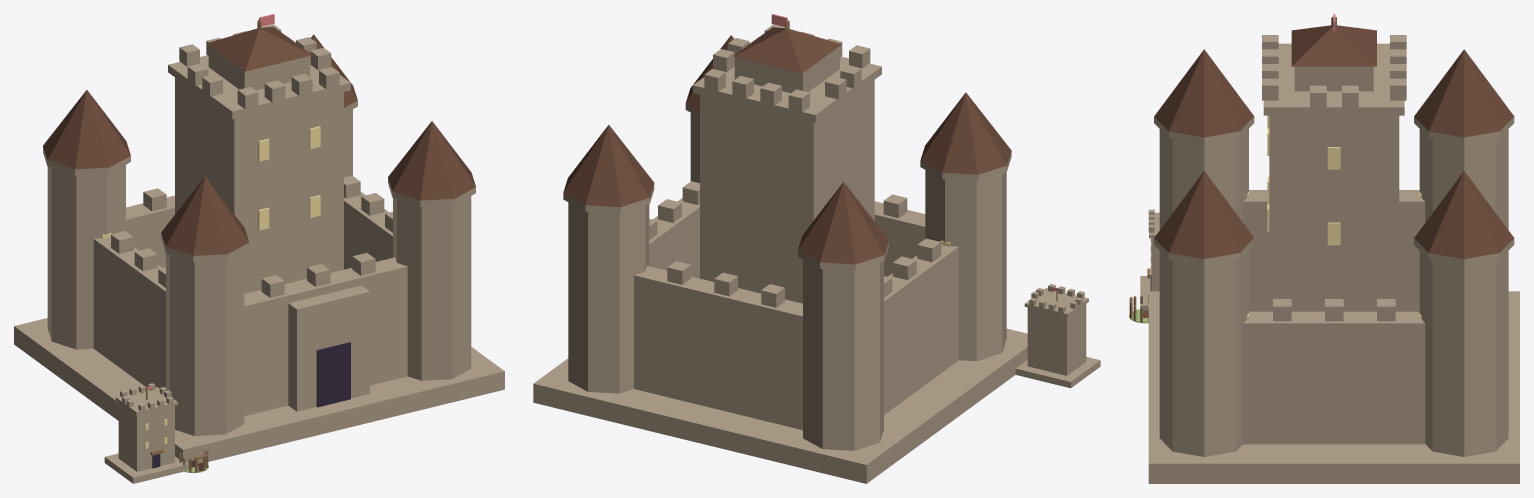
The model's file is medieval-g3.glb.
The picture shows the model from 3 angles, left to right: view 1: azimuth 30°, elevation 25°; view 2: azimuth 150°, elevation 25°; view 3: azimuth 270°, elevation 25°; orthographic projection. The views are drawn at different scales.
Parts seen in each view (by area): view 1: medieval-g3; view 2: medieval-g3; view 3: medieval-g3.
Boxes of the visible parts, x1,y1,x2,y2 form: medieval-g3: (14, 14, 504, 483); medieval-g3: (533, 14, 1100, 483); medieval-g3: (1129, 14, 1519, 483).
Bounding box in the file's own units: 5.13 × 4.56 × 4.21.
